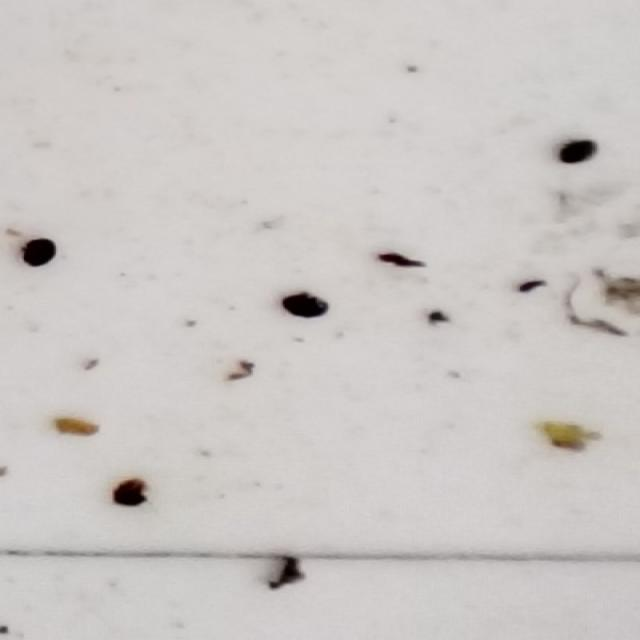varroa: (279, 291, 331, 320), (21, 236, 58, 269), (558, 138, 596, 167)
